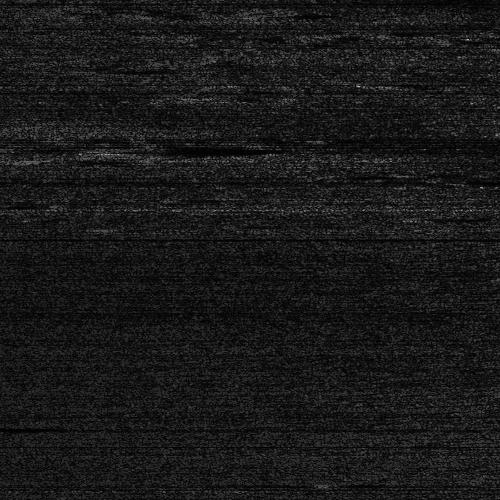rock: (69, 142, 162, 153), (0, 157, 49, 162), (301, 482, 342, 485)
shadow: (116, 142, 236, 153), (0, 423, 50, 430), (18, 157, 54, 162), (322, 482, 370, 485)
